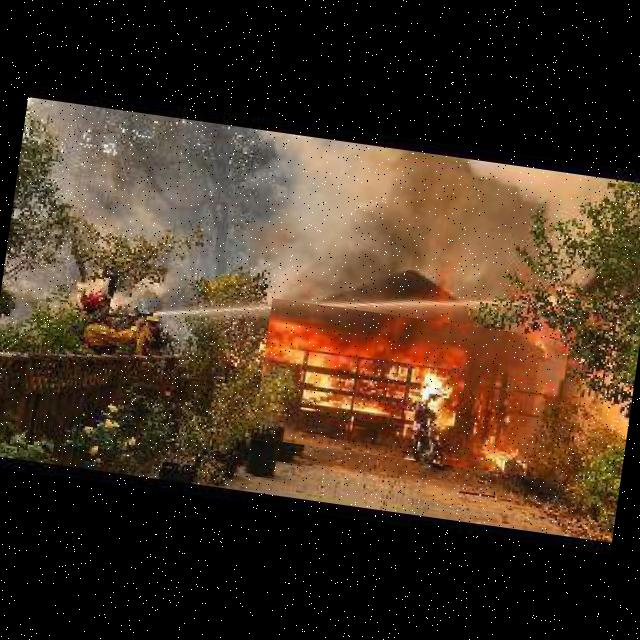fire: (253, 298, 570, 480)
